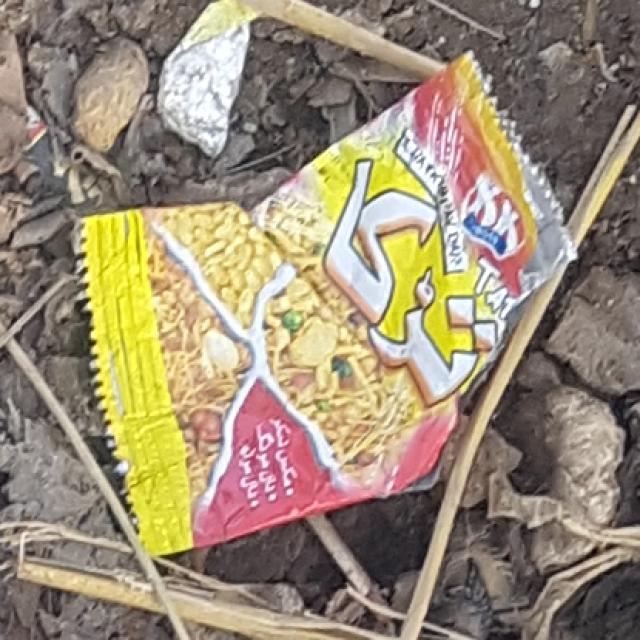electronic: (71, 48, 577, 556)
